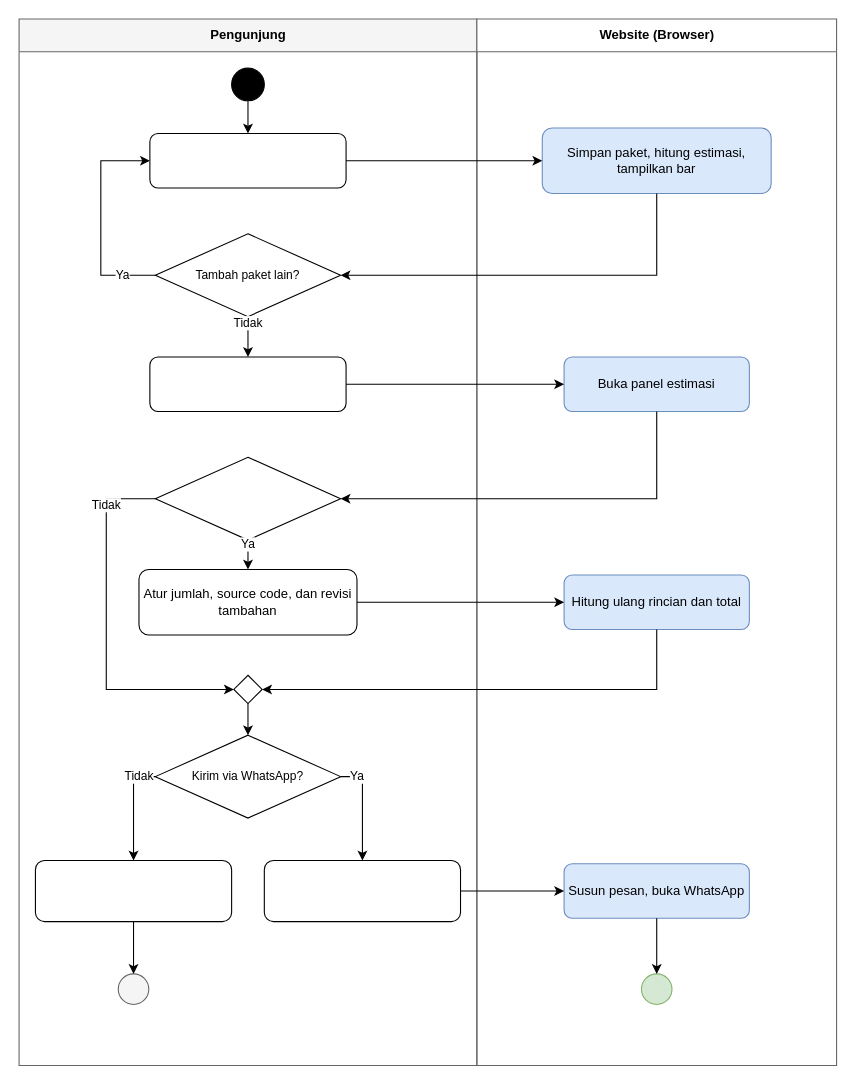
This 856x1085 diagram has some shape labels left out. Each missing label, with the centre of its shape:
Klik "+ Tambah ke estimasi": (247,160)
Klik "Kirim estimasi via WhatsApp": (362,890)
Klik "Kosongkan" atau tutup panel: (133,890)
Klik "Lihat estimasi": (247,383)
Ubah jumlah atau opsi?: (247,498)
